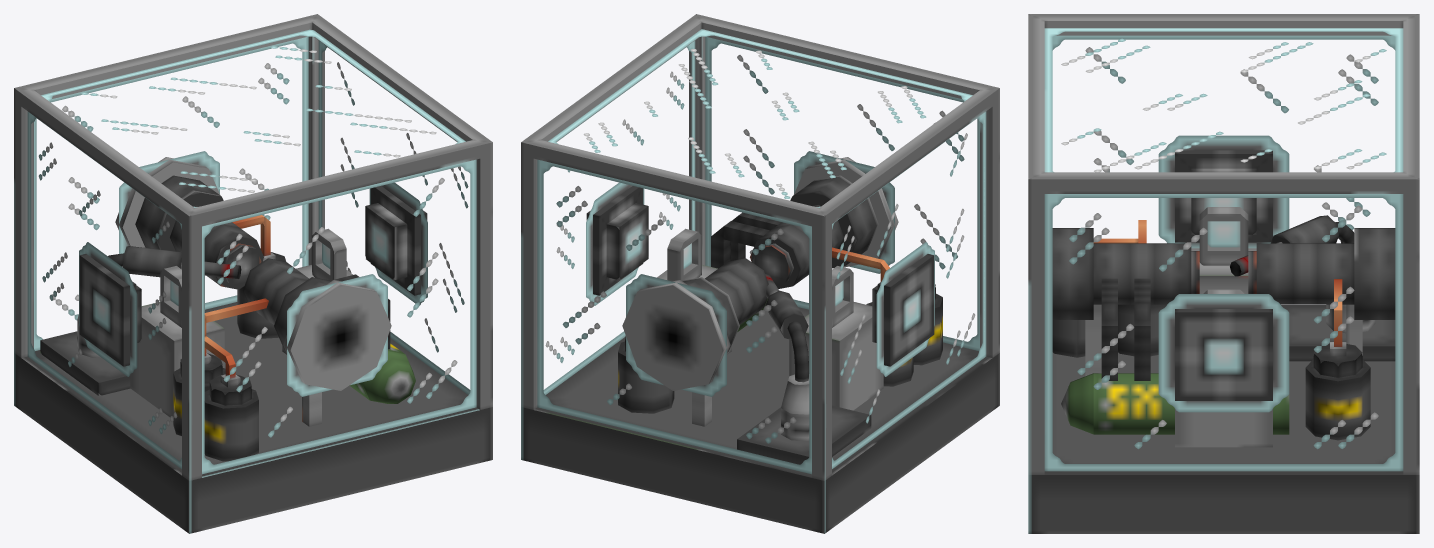
File: silex.obj
The picture shows the model from 3 angles, left to right: view 1: azimuth 30°, elevation 25°; view 2: azimuth 150°, elevation 25°; view 3: azimuth 270°, elevation 25°; orthographic projection. The views are drawn at different scales.
Parts seen in each view (by area): view 1: Cube_Cube.001; view 2: Cube_Cube.001; view 3: Cube_Cube.001.
Part boxes in pixels (bbox=[...]): Cube_Cube.001: bbox=[14, 14, 492, 533]; Cube_Cube.001: bbox=[521, 14, 999, 533]; Cube_Cube.001: bbox=[1028, 14, 1419, 533].
Bounding box in the file's own units: 3 × 3 × 3.
